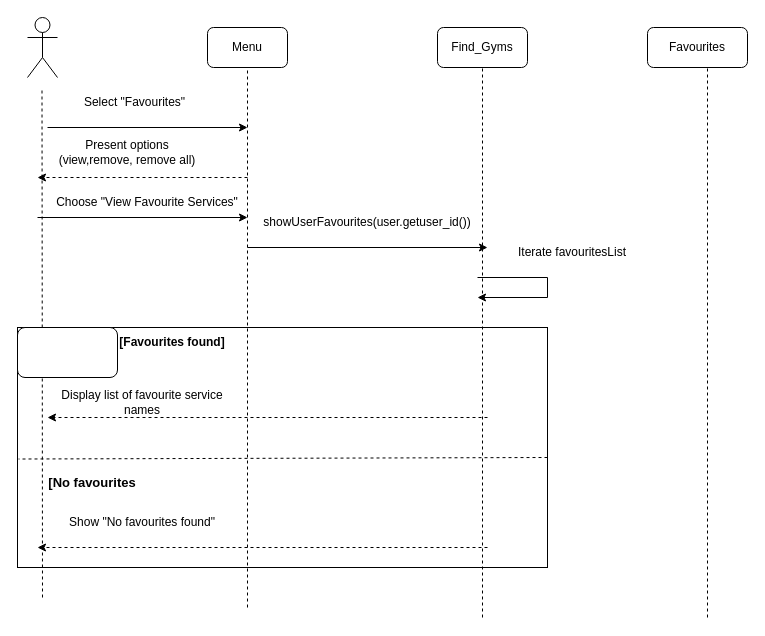
This 765x636 diagram has some shape labels left out. Here are the shapes that lost their labels. From the top down, the centre of each, then its label:
the point at 42,47: User
the point at 67,352: alt
